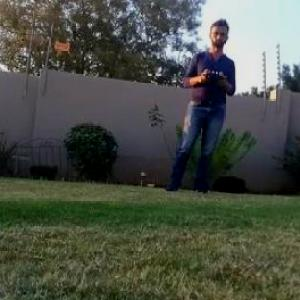follow: (157, 11, 237, 198)
